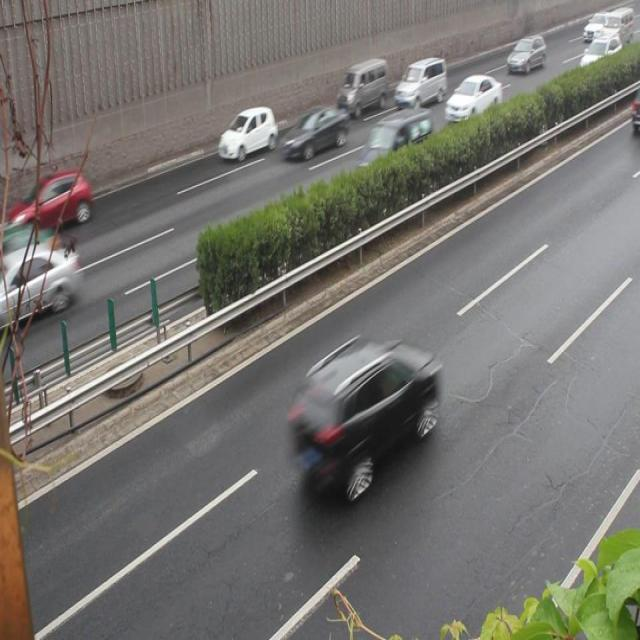car: (289, 336, 436, 496), (1, 242, 78, 329), (17, 170, 90, 239), (282, 104, 346, 161), (443, 73, 500, 127), (218, 108, 276, 160), (506, 34, 544, 75)
truck: (359, 109, 432, 183), (334, 58, 387, 116), (392, 58, 447, 109)
